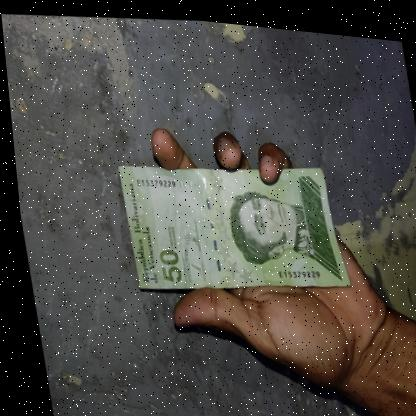fifty-front-vef: (113, 143, 348, 304)
